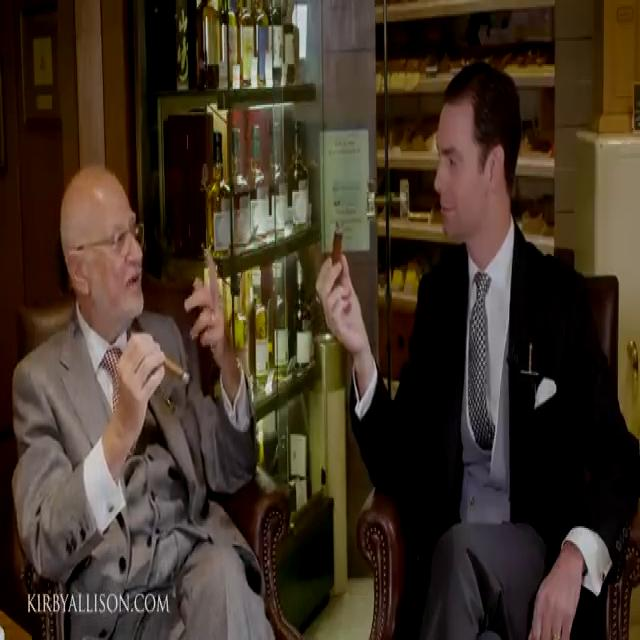Smooking: (165, 354, 196, 396), (331, 215, 352, 269)
